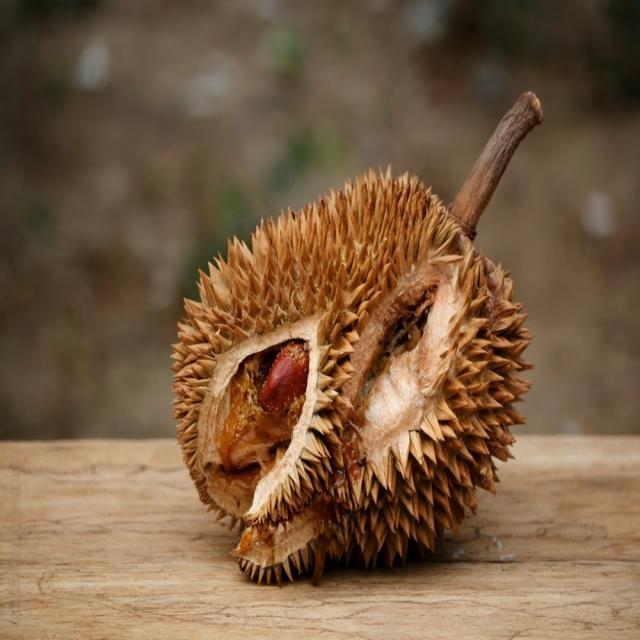defective: (167, 159, 535, 587)
